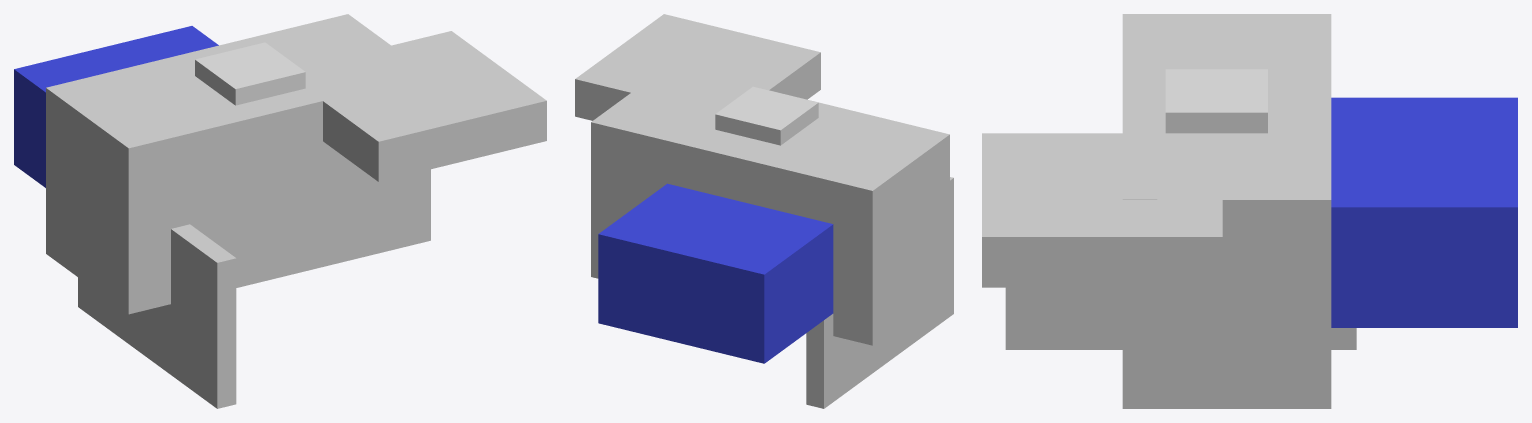
File: cubes.glb
The picture shows the model from 3 angles, left to right: view 1: azimuth 30°, elevation 25°; view 2: azimuth 150°, elevation 25°; view 3: azimuth 270°, elevation 25°; orthographic projection. The views are drawn at different scales.
Visible parts, largest first — view 1: 立方体.002, 立方体, 立方体.004, 立方体.003, Cube; view 2: 立方体.002, 立方体.003, 立方体, 立方体.004, Cube; view 3: 立方体.002, 立方体.003, 立方体, 立方体.004, Cube.
Part boxes in pixels (x1,y1,x2,y2): 立方体.002: (46,14,430,314); 立方体: (323,31,546,181); 立方体.004: (78,224,236,408); 立方体.003: (14,26,218,187); Cube: (195,42,305,105); 立方体.002: (591,65,949,345); 立方体.003: (598,183,833,363); 立方体: (575,14,820,120); 立方体.004: (806,177,953,408); Cube: (715,86,818,145); 立方体.002: (1122,14,1331,408); 立方体.003: (1331,97,1517,327); 立方体: (982,133,1222,287); 立方体.004: (1005,287,1356,349); Cube: (1165,69,1267,133).
Size of the model in its own units: 10.32 by 6.89 by 10.48.
